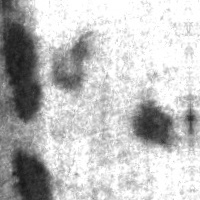patches: (0, 17, 42, 120), (50, 29, 94, 91), (125, 97, 177, 145), (11, 147, 55, 199)
